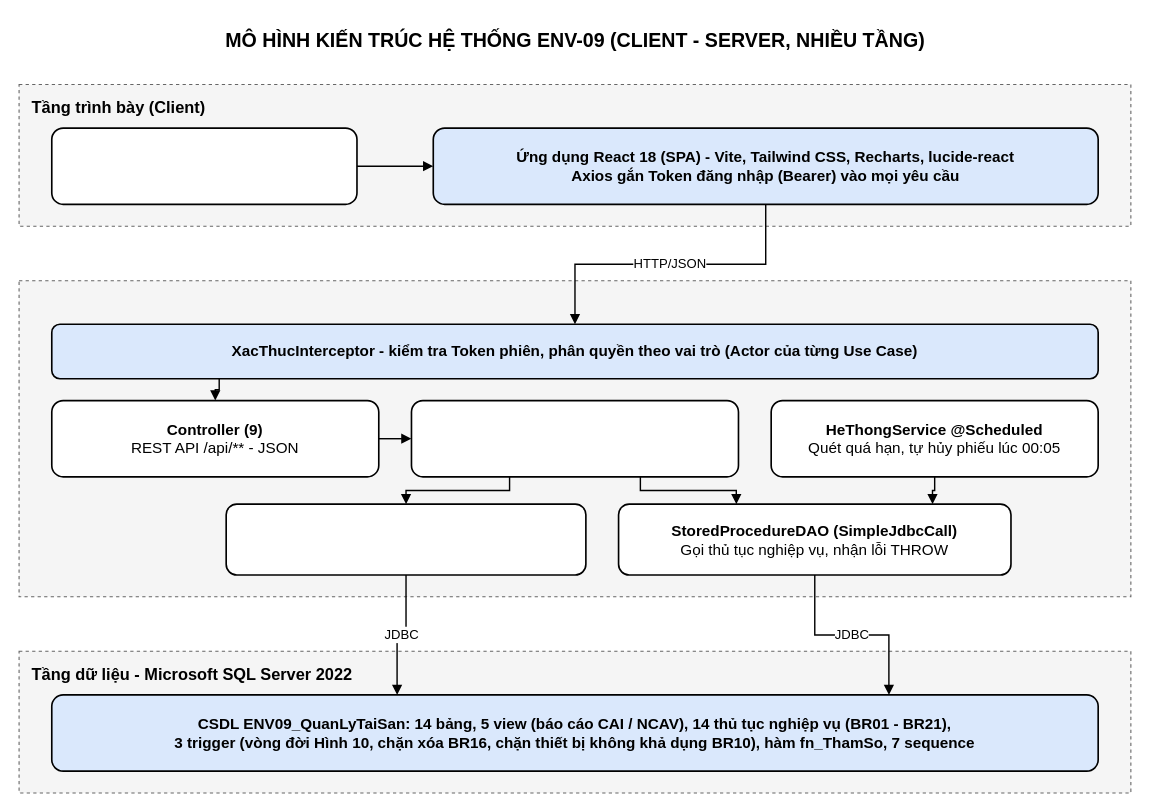
Image size: 1150x812. Some labels were removed from this diagram. Each missing label, with the box of its shape:
Repository Spring Data JPA (14) Truy vấn danh sách, danh mục: (225, 503, 586, 575)
Service (9) Điều phối nghiệp vụ, chuẩn hóa dữ liệu: (410, 399, 739, 477)
Trình duyệt web Nhân viên, Thủ kho, Lãnh đạo, Quản trị viên: (50, 127, 357, 205)
Tầng ứng dụng (Server) - Spring Boot 3.3.5, Java 21: (18, 280, 1131, 597)
